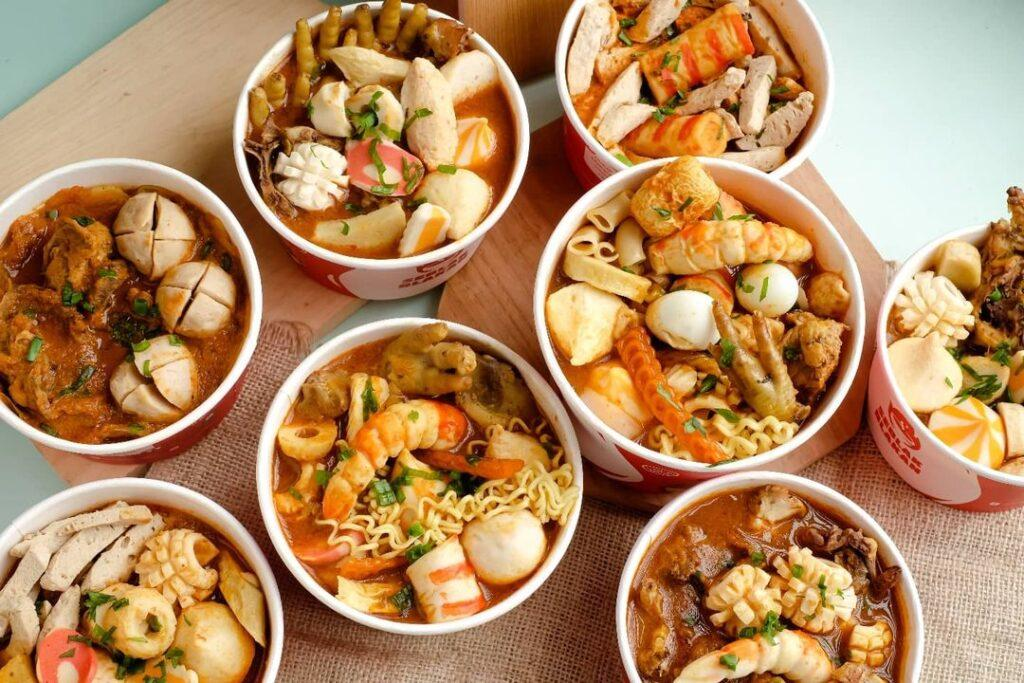seblak: (547, 158, 850, 463), (275, 324, 576, 624), (245, 8, 517, 257), (2, 188, 251, 447), (629, 490, 905, 683), (3, 502, 273, 683), (567, 2, 818, 166), (887, 230, 1024, 480)
